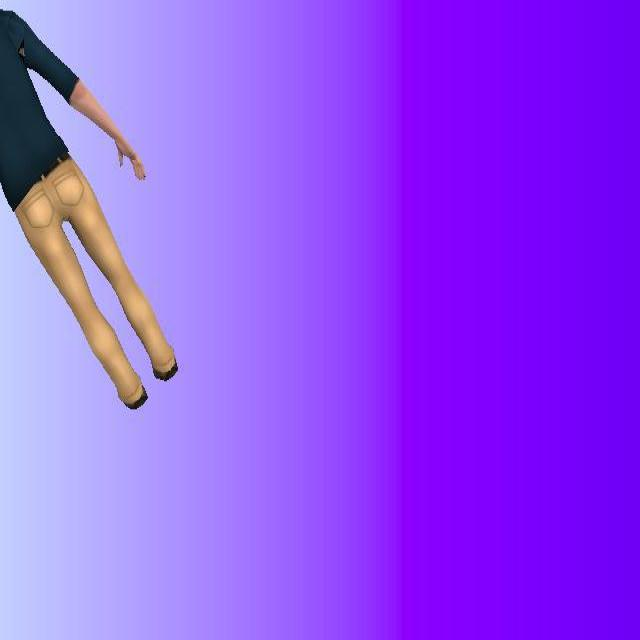obstacle: (0, 0, 182, 416)
